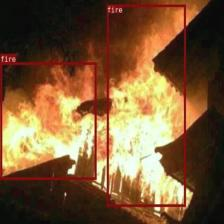fire: (106, 4, 186, 206), (0, 62, 96, 179)
